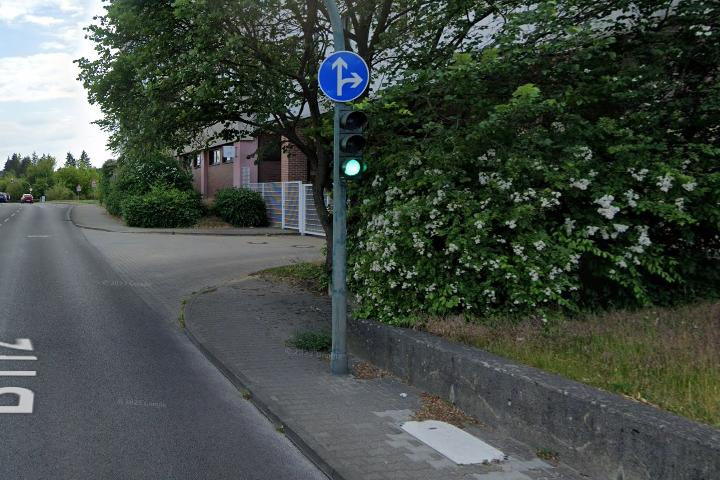traffic_sign: (317, 50, 371, 104)
